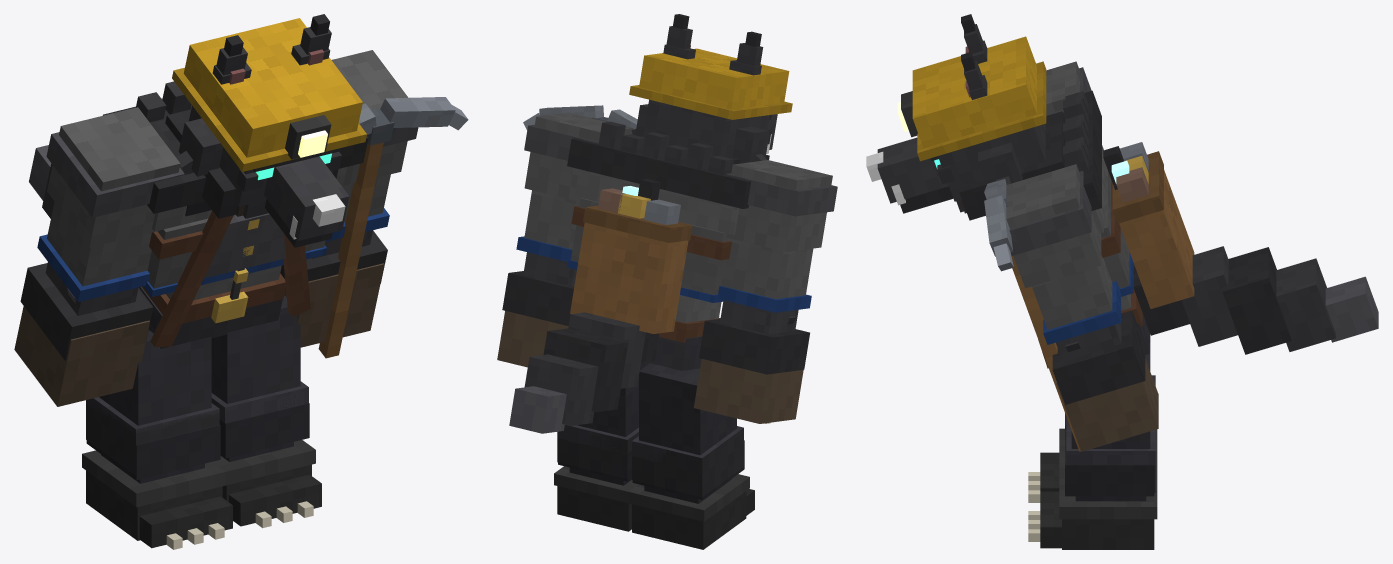
File: lycan_mineur.glb
3 renders of one model, left to right at view 1: azimuth 30°, elevation 25°; view 2: azimuth 150°, elevation 25°; view 3: azimuth 270°, elevation 25°, orthographic. The views are drawn at different scales.
Visible parts, largest first — view 1: ArmR, Head, Torso, LegR, LegL, ArmL, HandL, Root; view 2: Torso, ArmR, LegR, Head, ArmL, LegL, HandL; view 3: Torso, ArmL, Head, LegL, HandL, ArmR, LegR, Root.
Boxes of the visible parts, box(x1,y1,x2,y2) form: ArmR: box(14, 107, 185, 406); Head: box(165, 14, 366, 247); Torso: box(29, 81, 368, 348); LegR: box(82, 330, 232, 548); LegL: box(211, 295, 321, 526); ArmL: box(280, 50, 418, 347); HandL: box(318, 97, 468, 358); Root: box(166, 501, 313, 549); Torso: box(509, 121, 751, 433); ArmR: box(693, 160, 837, 423); LegR: box(628, 363, 754, 549); Head: box(629, 14, 792, 164); ArmL: box(497, 112, 633, 367); LegL: box(554, 362, 649, 531); HandL: box(523, 105, 637, 130); Torso: box(1038, 90, 1378, 368); ArmL: box(1006, 164, 1158, 451); Head: box(866, 14, 1065, 220); LegL: box(1040, 343, 1157, 549); HandL: box(984, 179, 1080, 451); ArmR: box(1046, 61, 1091, 115); LegR: box(1040, 333, 1157, 491); Root: box(1028, 472, 1040, 541).
Bounding box in the file's own units: 1.41 × 1.94 × 1.89.
45 materials, 45 textured.
